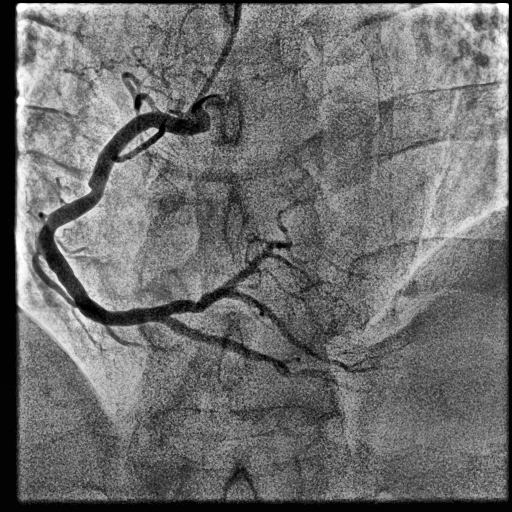pborca: (167, 240, 273, 315)
pda: (161, 317, 334, 381)
rca: (38, 111, 185, 326)
